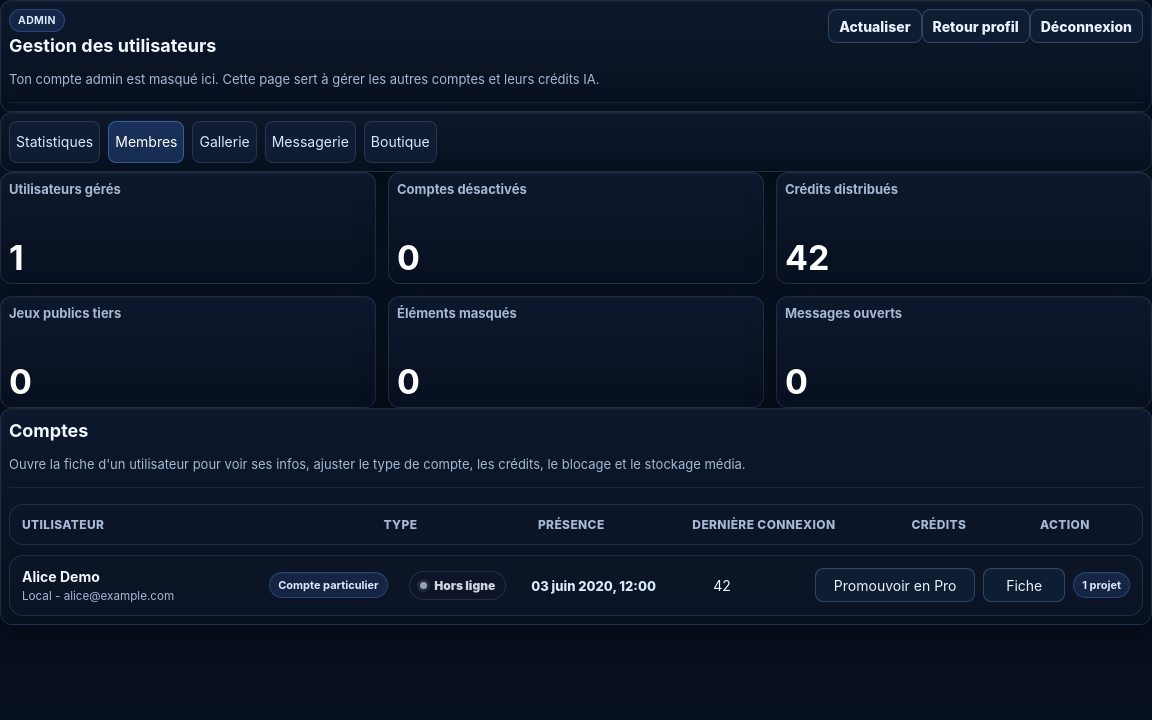
Test: admin statistics tab › opens an account sheet with credit, blocking and media storage controls
Expected: the column heading "Dernière connexion" is shown, [692, 517, 836, 532]
Expected: the text "Hors ligne" is shown, [409, 571, 506, 600]
Click the button "Fiche" at (1024, 585), box [983, 568, 1065, 602]
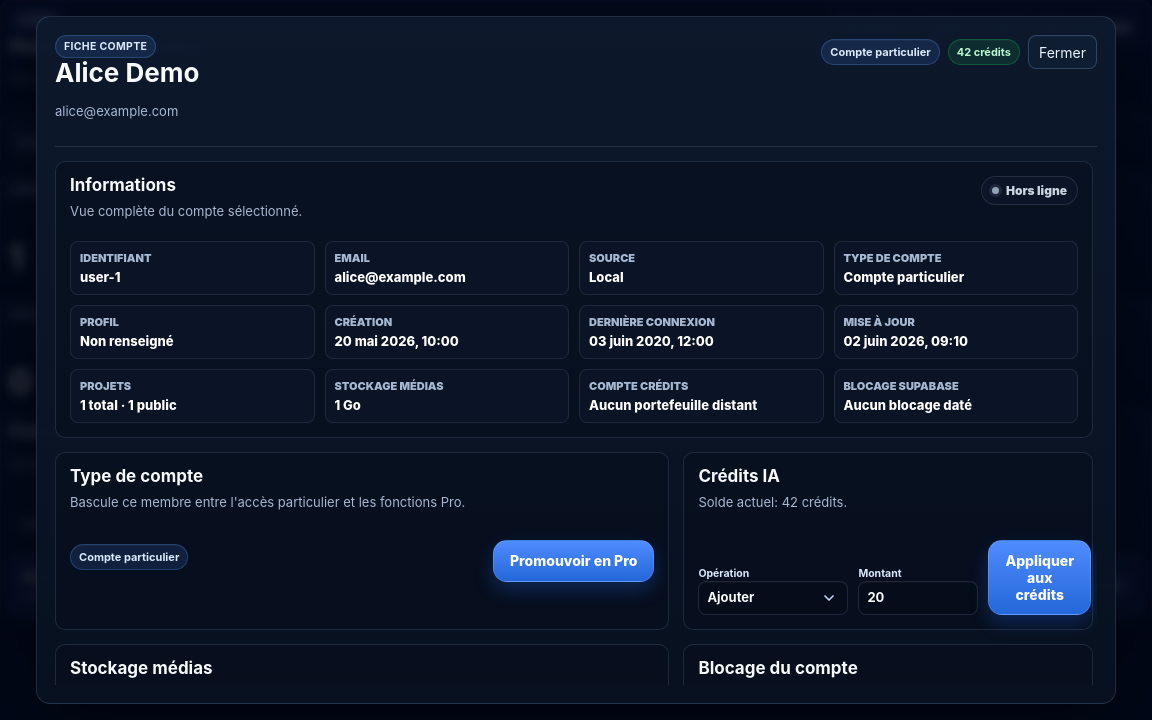
Expected: the text "Fiche compte" is shown, [55, 35, 156, 58]
Expected: the heading "Alice Demo" is shown, [55, 58, 199, 88]
Expected: the text "alice@example.com" below "Fiche compte" is shown, [55, 103, 178, 119]
Click the button "Promouvoir en Pro" at (574, 561), box [493, 540, 654, 582]
(page scrolled)
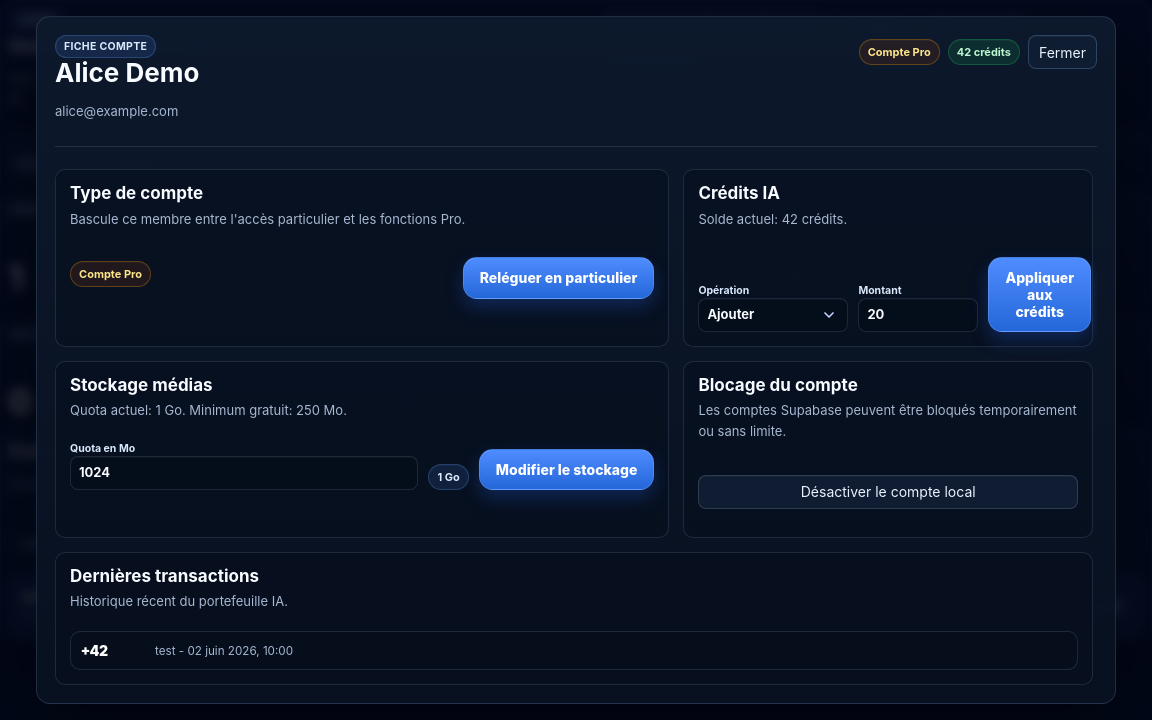
Expected: the heading "Blocage du compte" is shown, [698, 375, 858, 395]
Expected: the text "Quota actuel: 1 Go. Minimum gratuit: 250 Mo." is shown, [70, 400, 347, 420]
Expected: the number field labelled "Quota en Mo" holds "1024", [70, 456, 418, 490]
